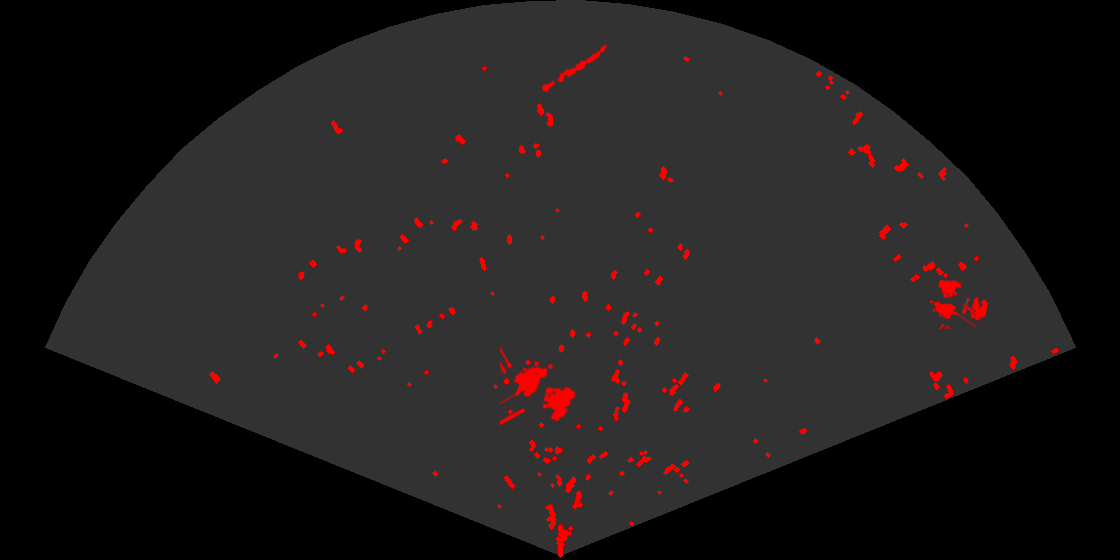ball: (961, 295, 990, 322)
cage: (500, 345, 577, 427), (928, 278, 976, 329)
chain: (537, 43, 609, 96)
